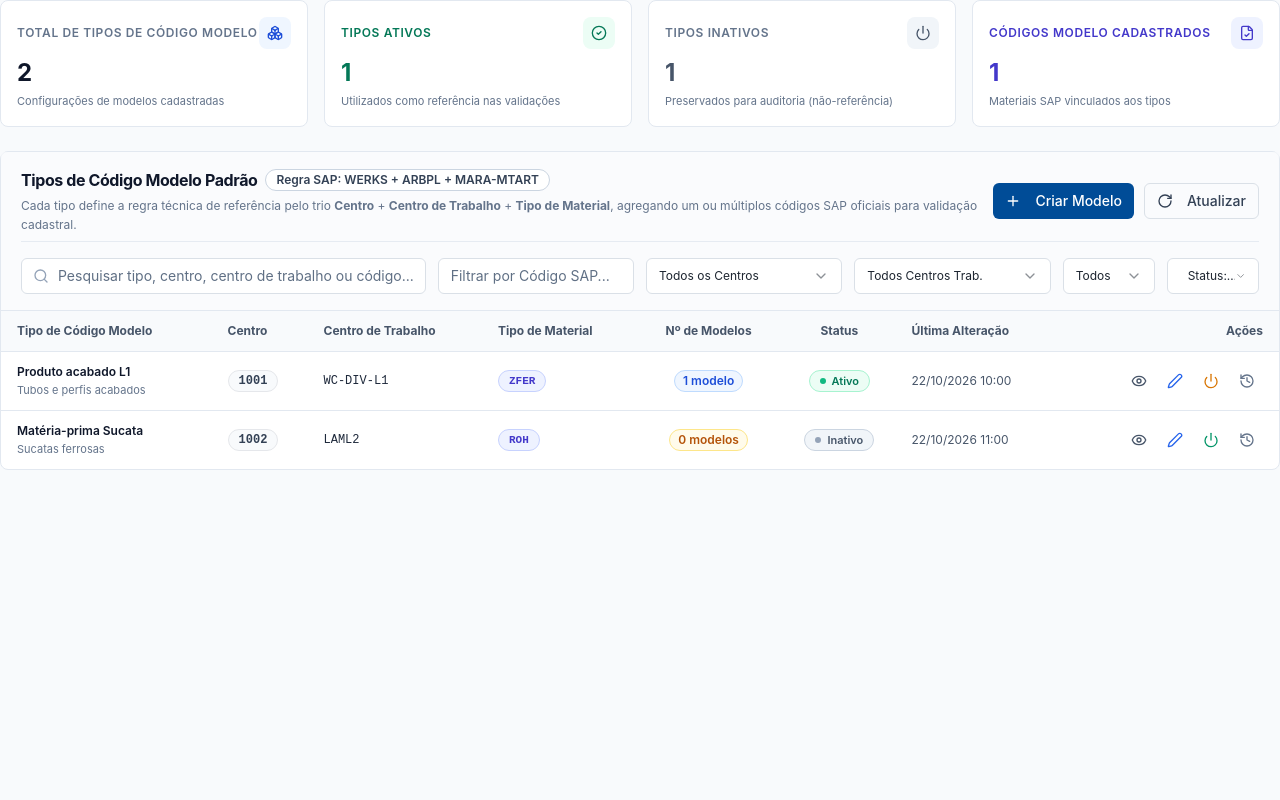
Test: CodigosModelosPadraoTab — Interface, Regras Visuais e Interação › 4. Abre o modal em modo de edição "Editar Tipo de Código Modelo Padrão" preenchido com dados existentes
The width and height of the screenshot is (1280, 800).
Expected: the text "Produto acabado L1" is shown, top-left (17, 364), bottom-right (130, 378)
Step 1. Click the button named "Editar Produto acabado L1" → x=1175, y=380, box top-left (1159, 364), bottom-right (1191, 396)
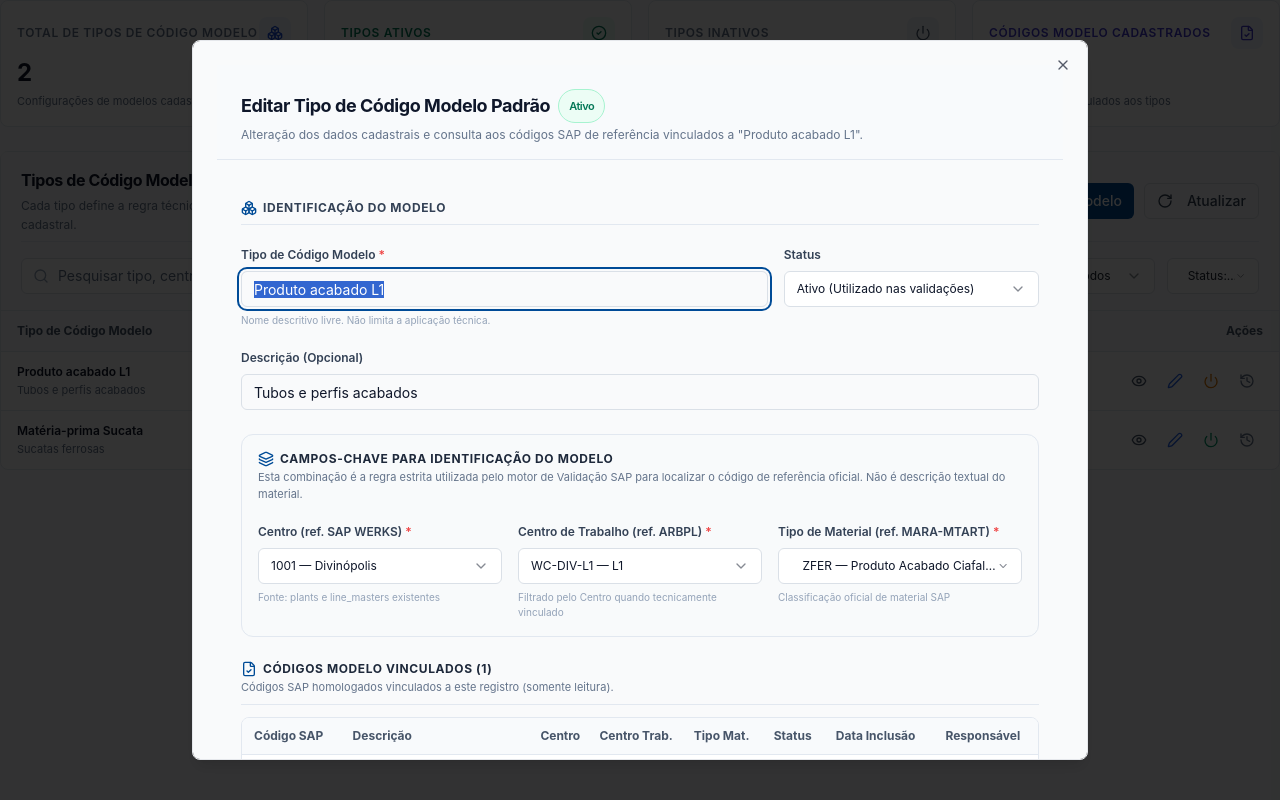
Result: the heading "Editar Tipo de Código Modelo Padrão" is shown at top-left (241, 95), bottom-right (550, 116)
Result: the 1st field showing "Produto acabado L1" is shown at top-left (241, 271), bottom-right (768, 307)
Result: the field showing "Tubos e perfis acabados" below "Descrição (Opcional)" is shown at top-left (241, 374), bottom-right (1039, 410)
